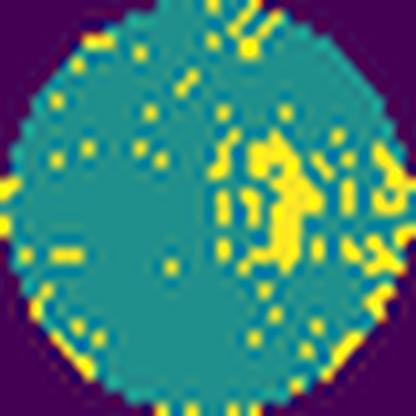Loc: (236, 130, 324, 278)
